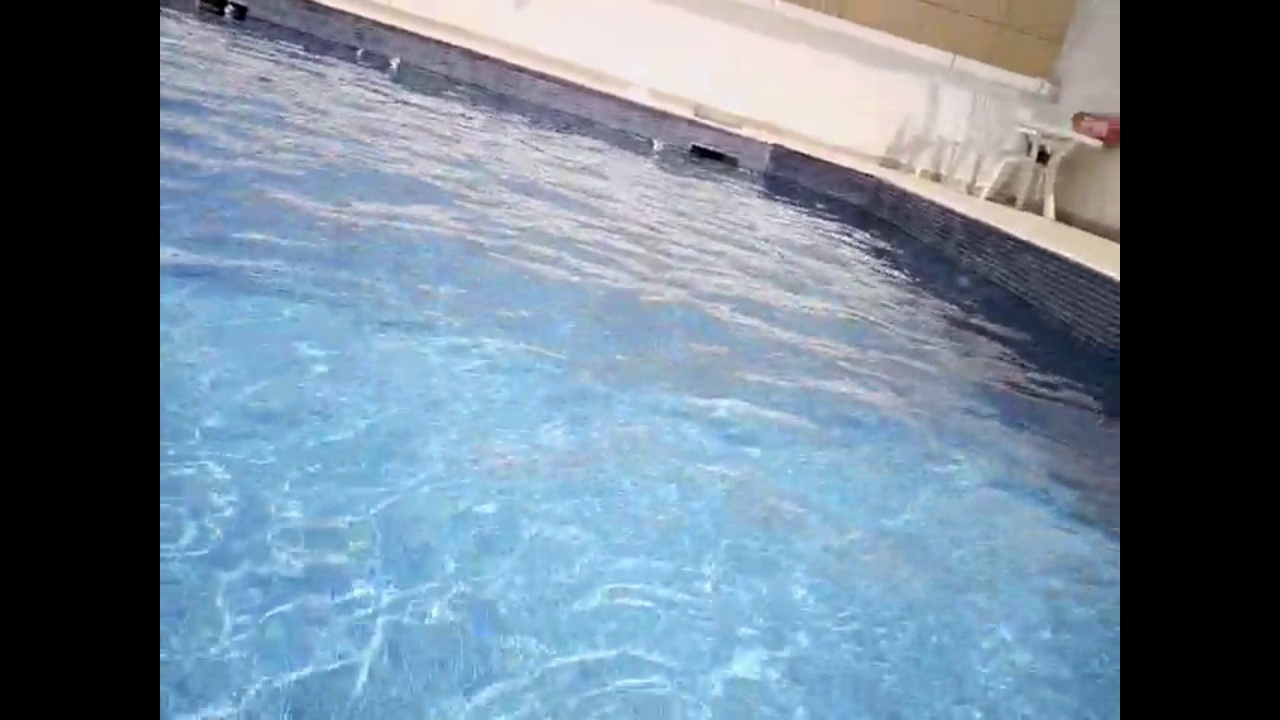debris: (382, 52, 407, 77), (352, 43, 373, 64), (218, 3, 238, 23), (648, 134, 665, 150)
